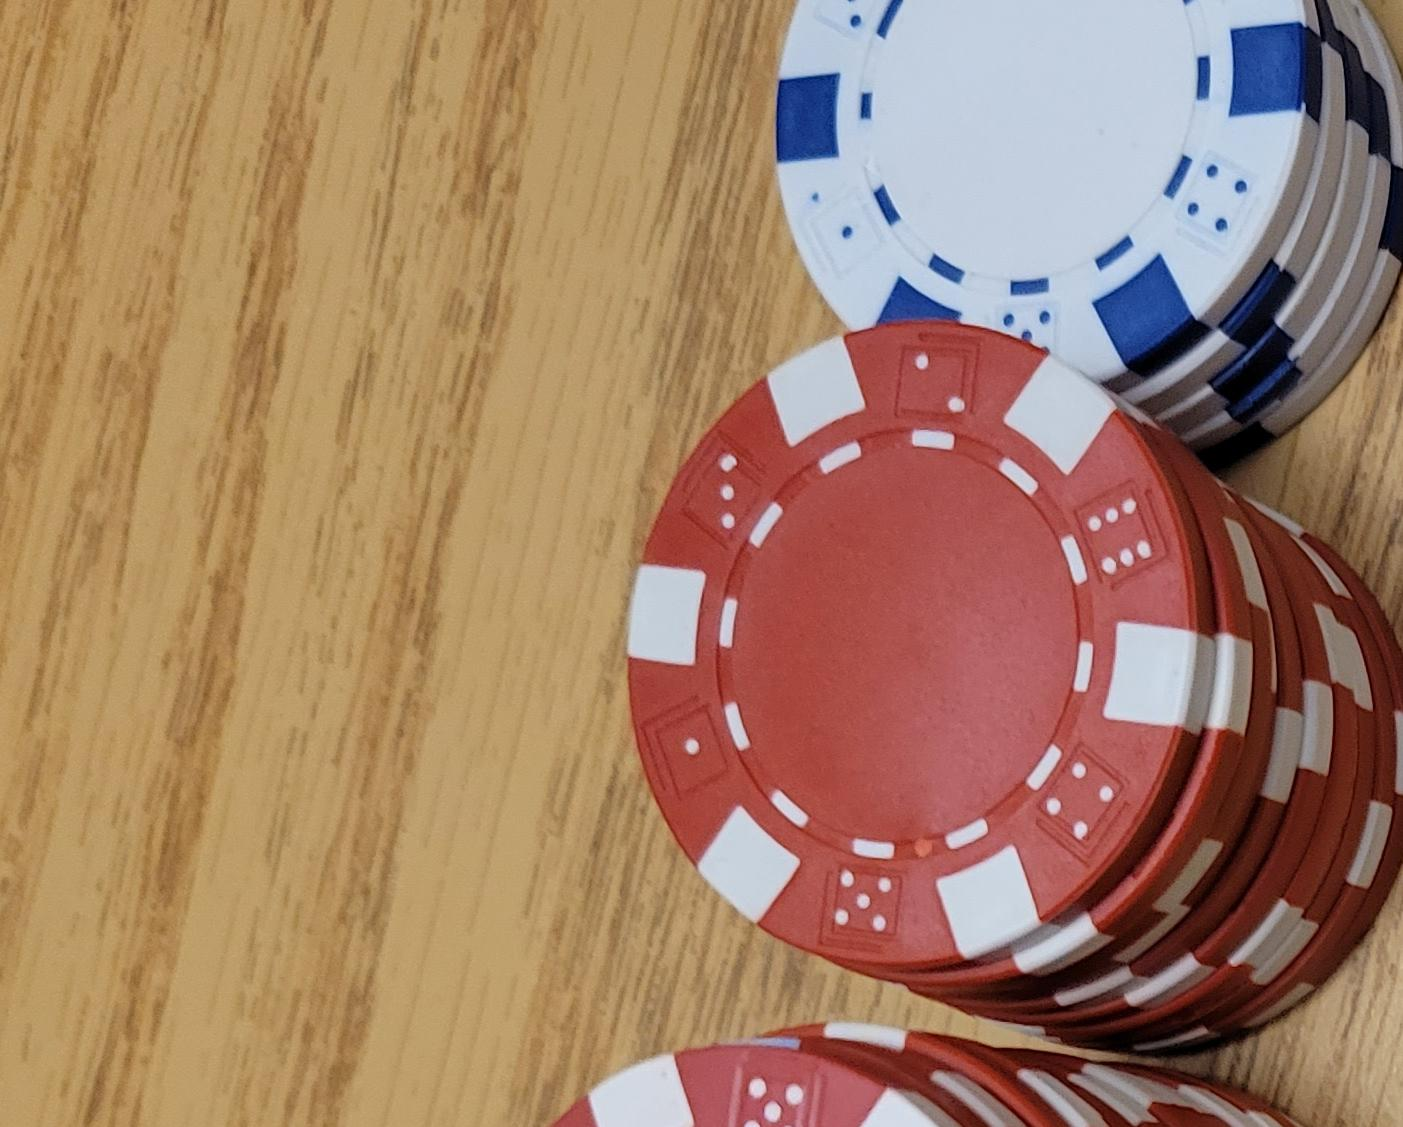Chip: (1, 76, 997, 1127)
